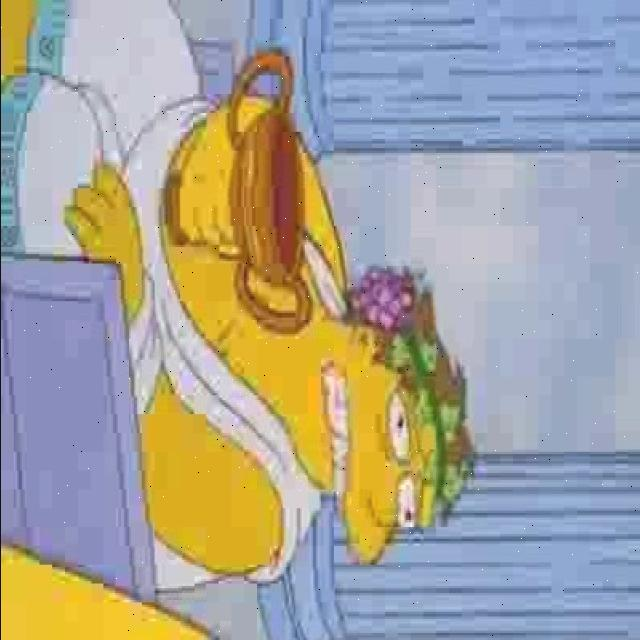Barney Gumble: (299, 288, 472, 578)
